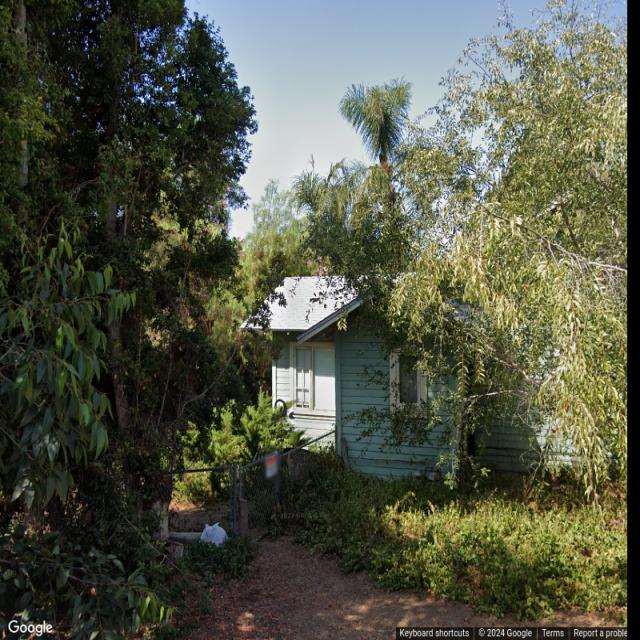House: (238, 268, 620, 483)
